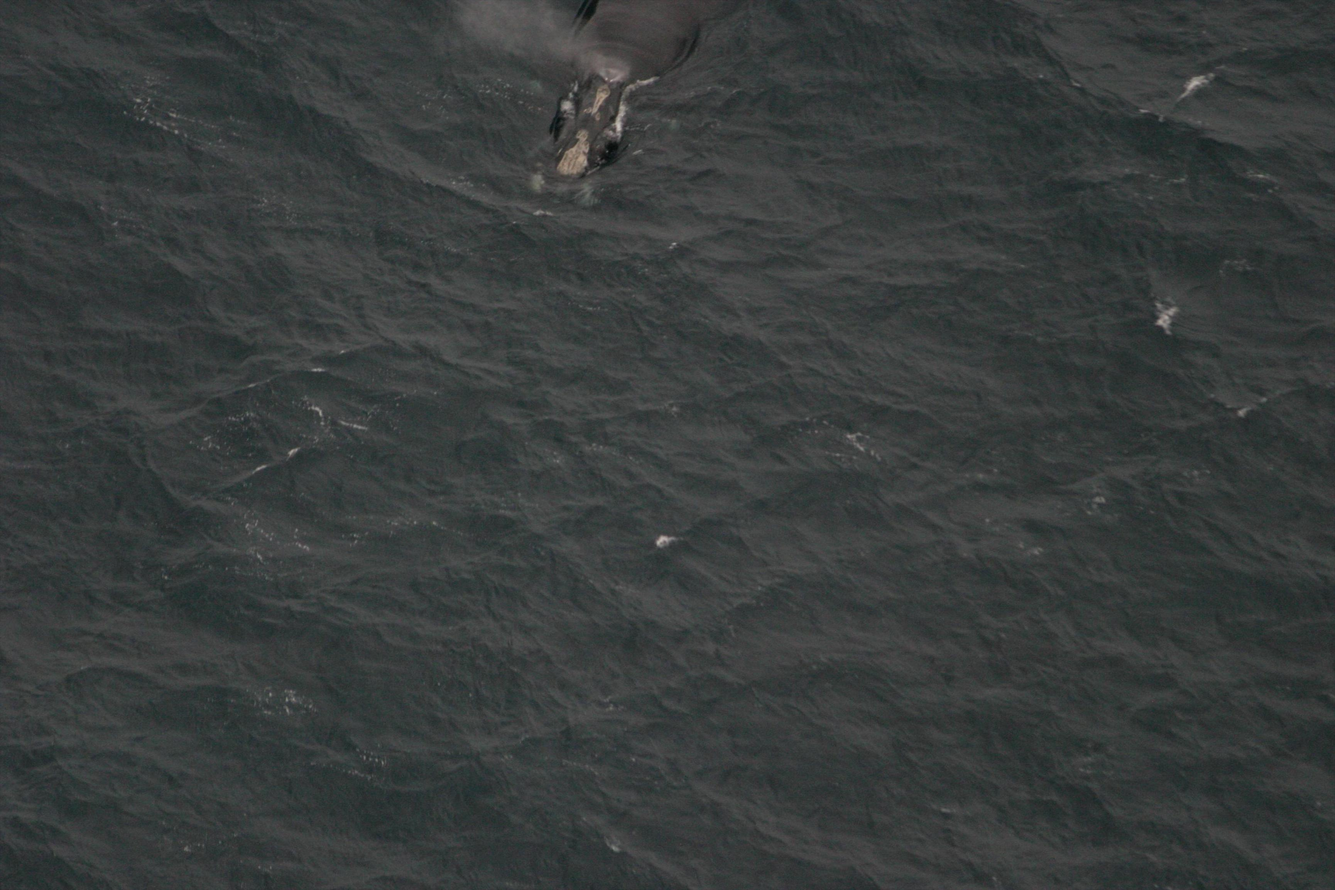whale: (509, 0, 723, 221)
